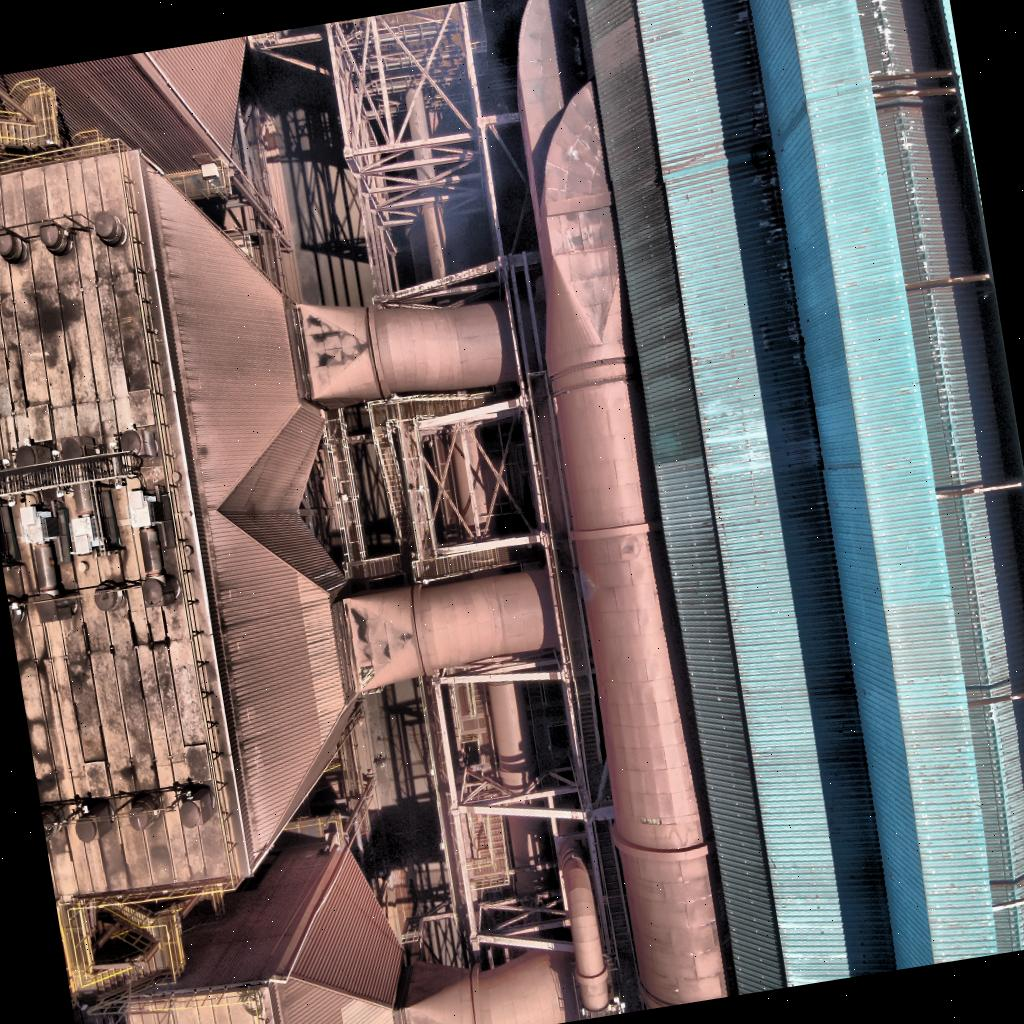Failures: (356, 664, 376, 690), (638, 814, 662, 828)
